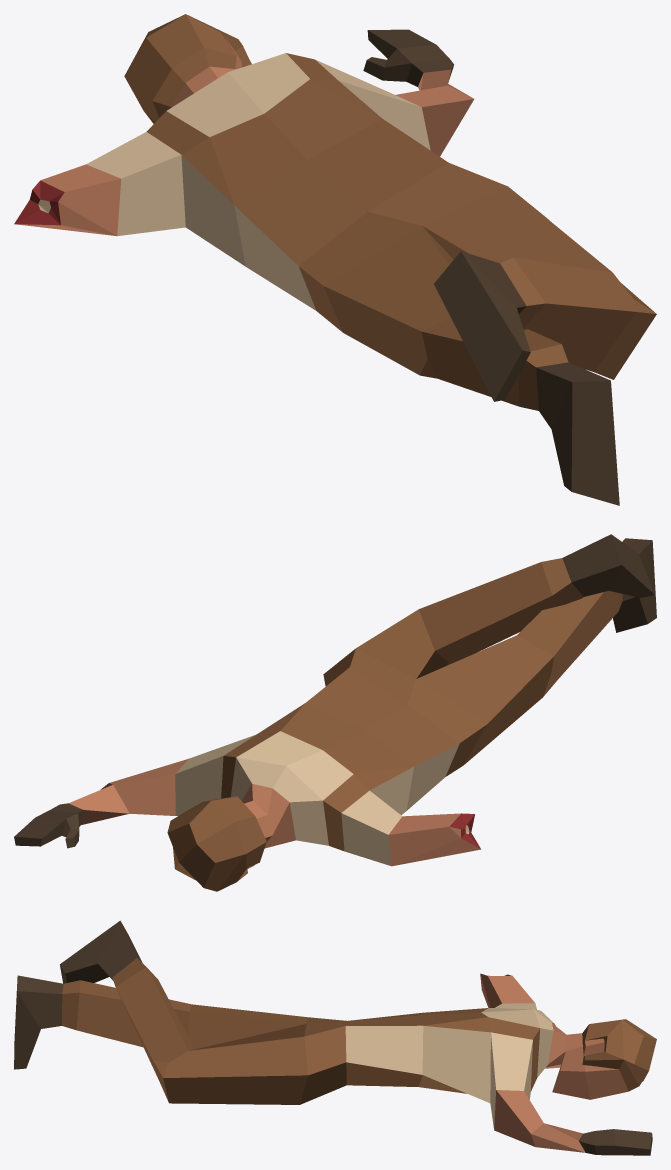
File: apocalypse_man-construction-worker-dead-a.fbx
3 renders of one model, top to bottom at view 1: azimuth 30°, elevation 25°; view 2: azimuth 150°, elevation 25°; view 3: azimuth 270°, elevation 25°, orthographic. The views are drawn at different scales.
Visible parts, largest first — view 1: apocalypse_man_construction_worker_dead_a; view 2: apocalypse_man_construction_worker_dead_a; view 3: apocalypse_man_construction_worker_dead_a.
Part boxes in pixels (bbox=[...]): apocalypse_man_construction_worker_dead_a: bbox=[14, 14, 656, 505]; apocalypse_man_construction_worker_dead_a: bbox=[14, 534, 656, 891]; apocalypse_man_construction_worker_dead_a: bbox=[14, 920, 656, 1155].
Size of the model in its own units: 113 by 44.71 by 200.
